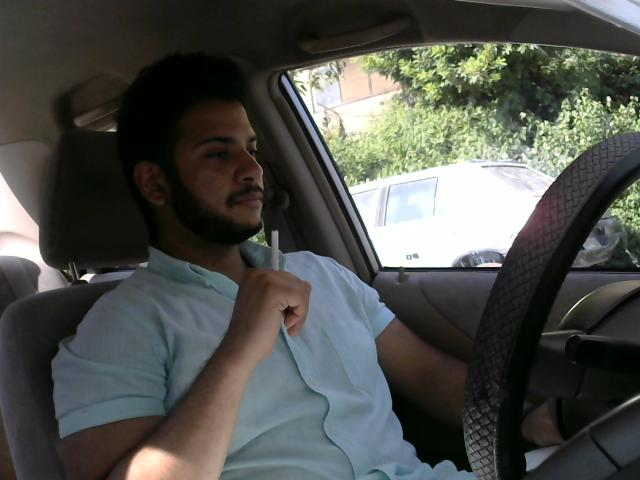Smoking: (266, 226, 284, 288)
